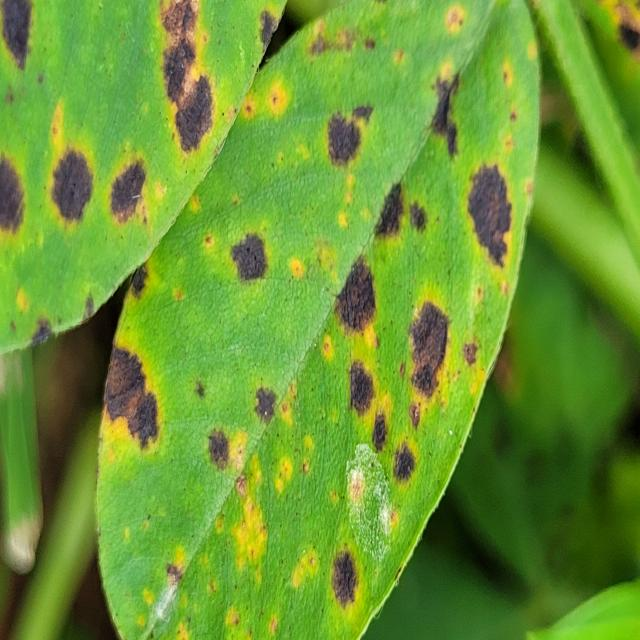Ground nut_tikka leaf spot: (97, 0, 539, 640)
